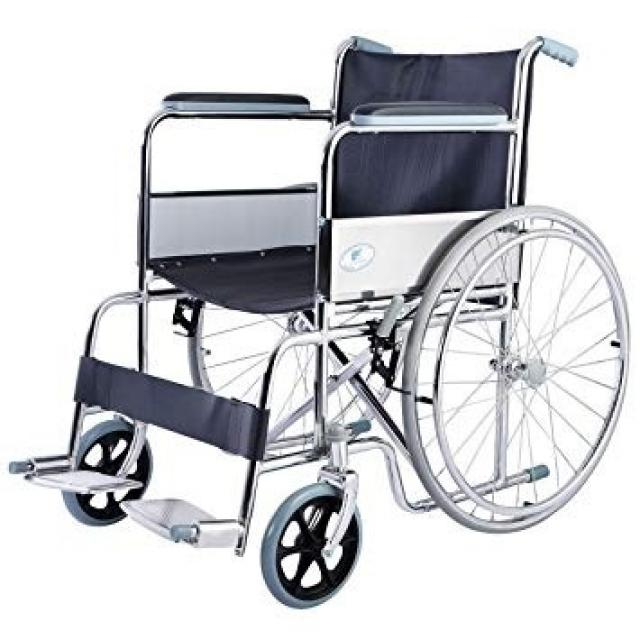wheelchair: (8, 23, 637, 614)
